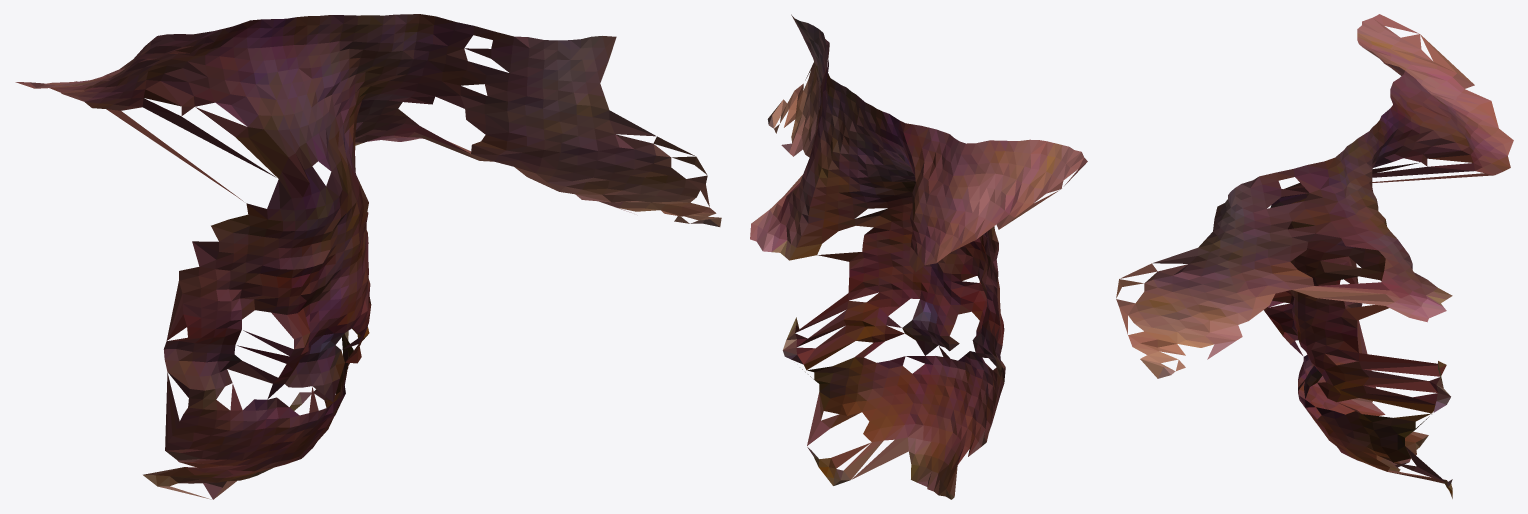
3 renders of one model, left to right at view 1: azimuth 30°, elevation 25°; view 2: azimuth 150°, elevation 25°; view 3: azimuth 270°, elevation 25°, orthographic. The views are drawn at different scales.
Parts seen in each view (by area): view 1: ofMesh; view 2: ofMesh; view 3: ofMesh.
Boxes of the visible parts, x1=… form: ofMesh: x1=15, y1=14, x2=721, y2=499; ofMesh: x1=750, y1=14, x2=1087, y2=499; ofMesh: x1=1116, y1=14, x2=1513, y2=498.
Size of the model in its own units: 348 by 282 by 267.
Materials: 1 (1 with a texture image).
